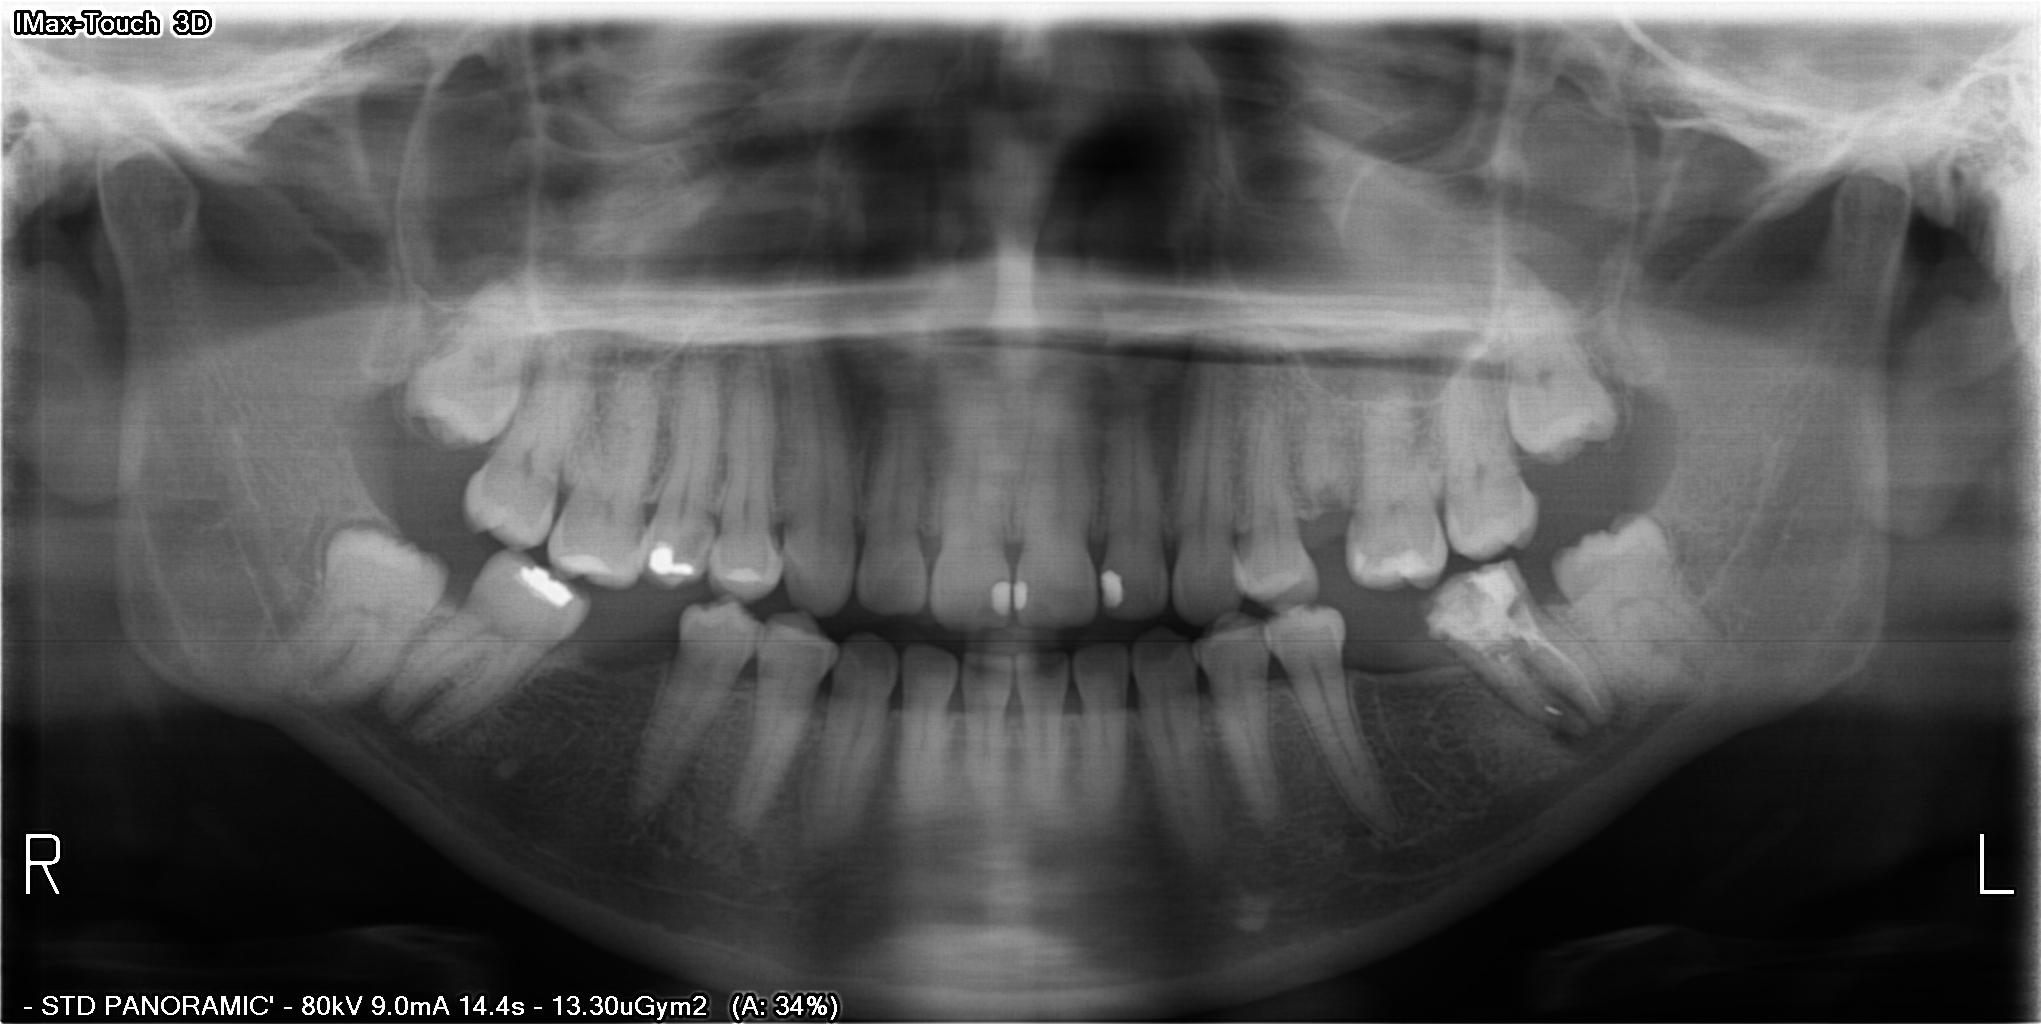Çürük: (1427, 556, 1517, 650), (511, 554, 582, 614), (565, 532, 625, 596), (645, 528, 704, 590), (1007, 568, 1041, 627), (982, 571, 1016, 622), (1101, 562, 1123, 614)
Çürük Bölgesi: (1502, 585, 1532, 633)
